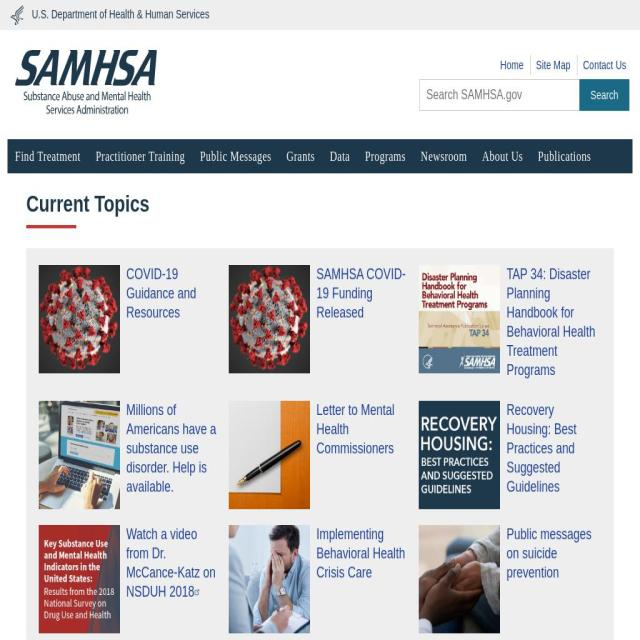button: (88, 139, 192, 173), (192, 139, 279, 173), (8, 139, 88, 173), (530, 139, 599, 173), (413, 139, 475, 173), (357, 139, 414, 173), (474, 139, 530, 173), (580, 79, 630, 111), (278, 139, 322, 173), (322, 139, 357, 173), (576, 55, 632, 75), (529, 55, 577, 75), (494, 55, 530, 75)
field: (419, 79, 586, 111)
heading: (26, 189, 614, 219), (506, 266, 596, 378), (126, 402, 216, 496), (126, 525, 216, 600), (507, 402, 578, 496), (316, 525, 406, 581), (316, 266, 406, 321), (507, 525, 592, 581), (316, 402, 395, 458), (126, 266, 196, 321), (194, 584, 202, 597)
image: (8, 46, 164, 118), (418, 524, 501, 634), (418, 401, 501, 510), (228, 524, 310, 634), (418, 265, 501, 373), (39, 524, 120, 634), (228, 265, 310, 373), (228, 401, 310, 509), (39, 401, 120, 510), (39, 265, 120, 373), (8, 2, 26, 28)
text: (29, 7, 210, 21), (95, 149, 185, 163), (200, 149, 272, 163), (15, 149, 81, 163), (420, 149, 468, 163), (364, 149, 406, 163), (482, 149, 524, 163), (286, 149, 316, 163), (329, 149, 350, 163)
